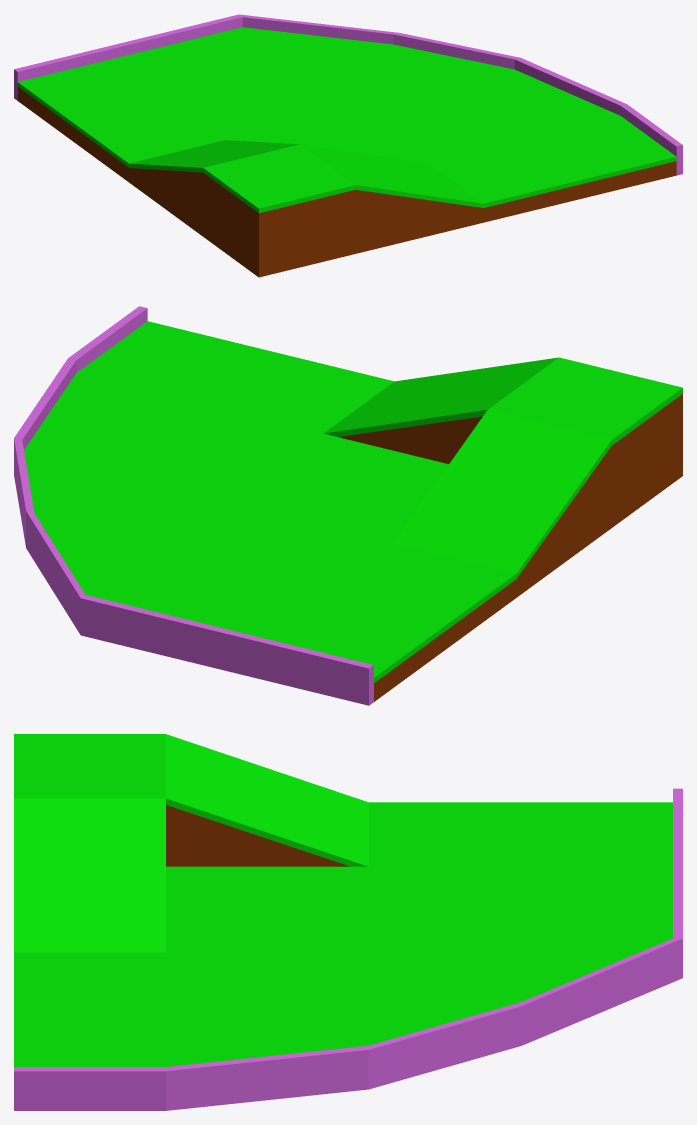
File: TestLevel.fbx
3 views of the same model, one above another, from view 1: azimuth 30°, elevation 25°; view 2: azimuth 150°, elevation 25°; view 3: azimuth 270°, elevation 25° (orthographic). The views are drawn at different scales.
Visible parts, largest first — view 1: Cube; view 2: Cube; view 3: Cube.
Boxes of the visible parts, x1=… form: Cube: x1=14, y1=14, x2=682, y2=277; Cube: x1=14, y1=306, x2=682, y2=705; Cube: x1=14, y1=734, x2=682, y2=1110.
Bounding box in the file's own units: 1320 × 205 × 1320.
